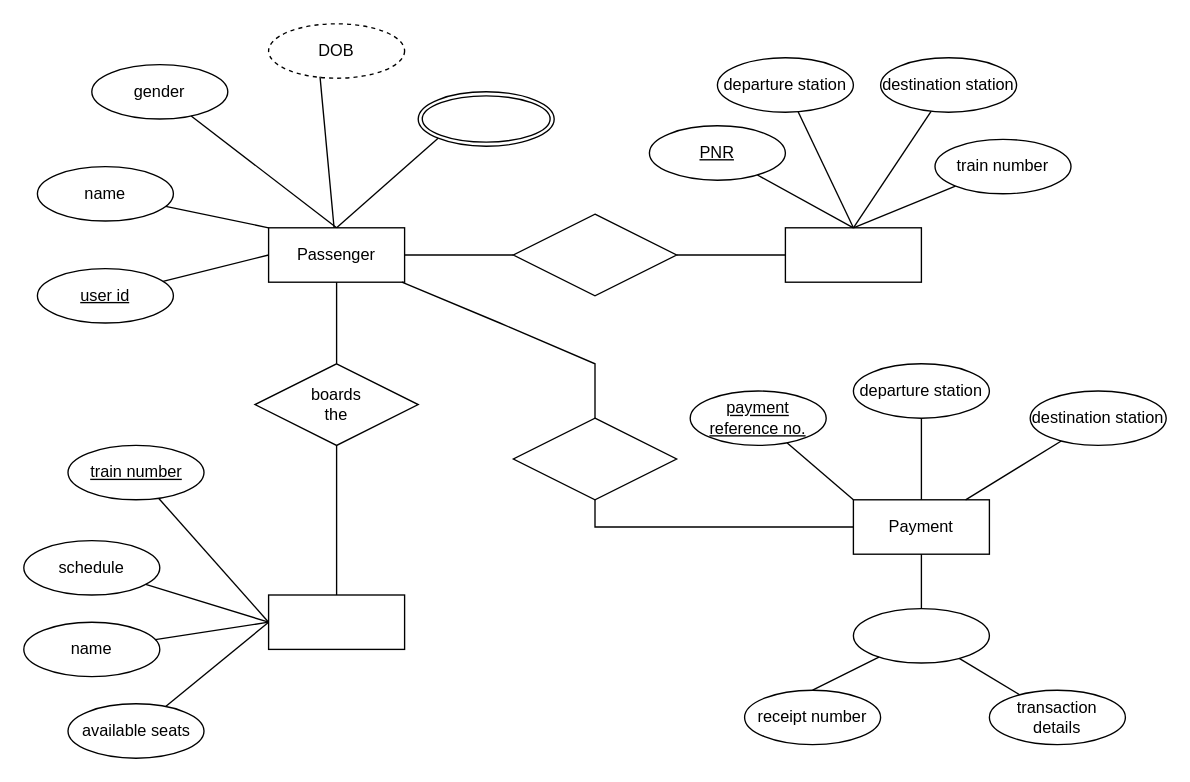
Some shapes in this 1190 by 782 pixel diagram are drawn without their labels. The box of each missing label's shape, as (x1, y1, x2, y2) in pixels:
books the: (512, 213, 677, 296)
makes the: (512, 417, 677, 500)
phone_no: (417, 90, 554, 146)
receipt: (852, 607, 989, 663)
Ticket: (784, 226, 921, 282)
Train: (267, 594, 405, 649)
